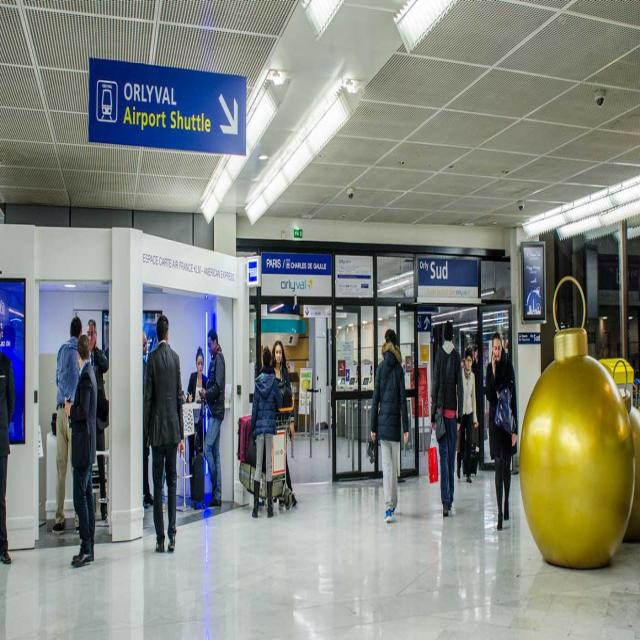body: (142, 312, 187, 556), (134, 326, 186, 506), (366, 325, 410, 524), (63, 332, 99, 572), (426, 317, 465, 519), (484, 330, 520, 536), (51, 314, 83, 536), (248, 342, 284, 518), (197, 325, 227, 511), (85, 318, 109, 522), (271, 339, 299, 512), (0, 324, 16, 566), (186, 344, 210, 502), (456, 344, 479, 484), (468, 346, 492, 478), (504, 340, 509, 355), (460, 352, 464, 370)
